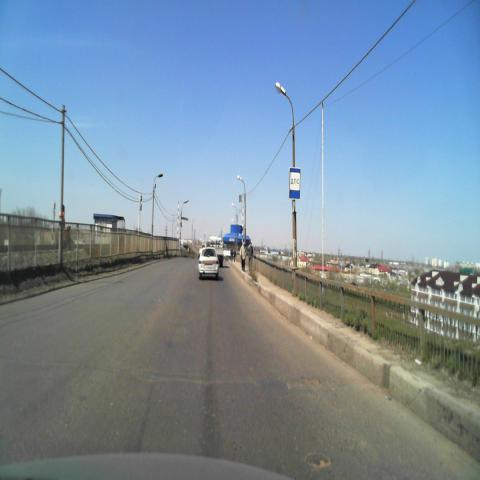7_12: (288, 167, 302, 201)
